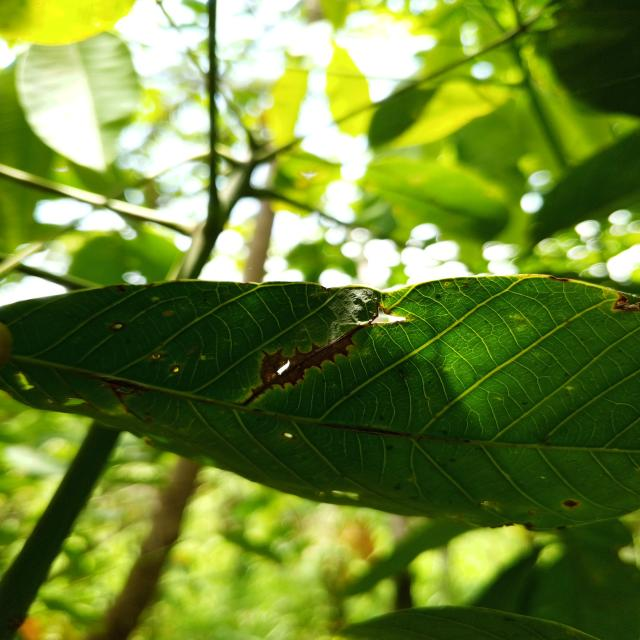Colletotrichum: (170, 365, 181, 374)
Corynespora: (235, 323, 364, 407), (112, 383, 145, 424)
